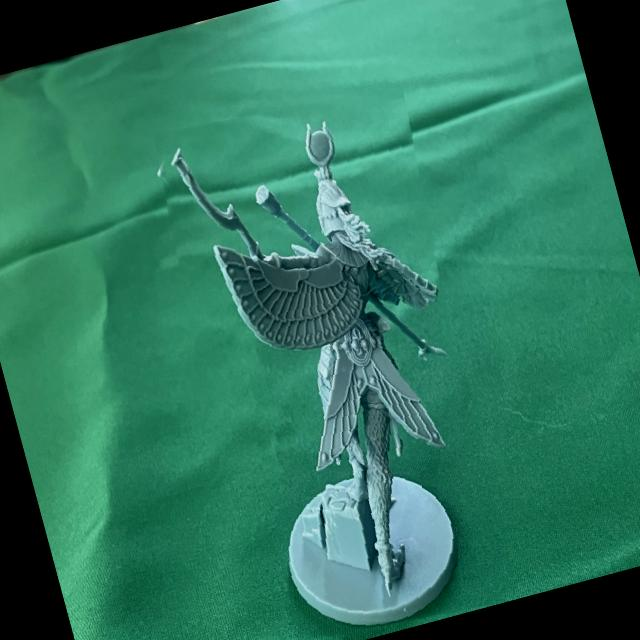isis: (127, 74, 527, 640)
